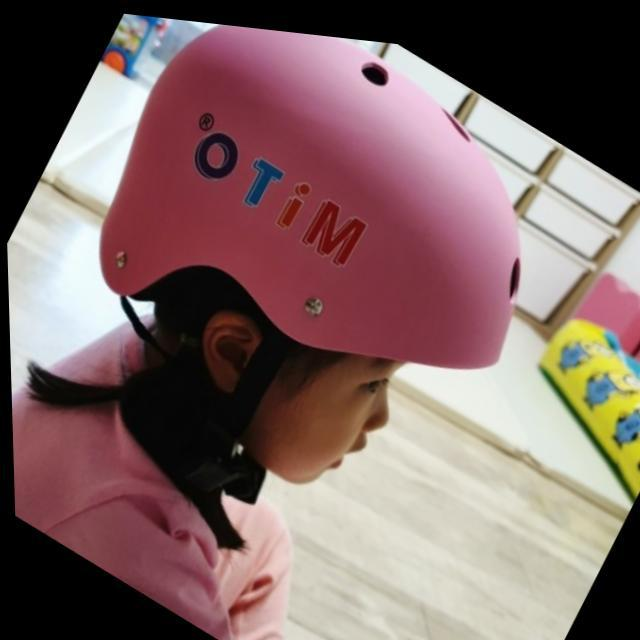Helmet: (97, 22, 523, 492)
